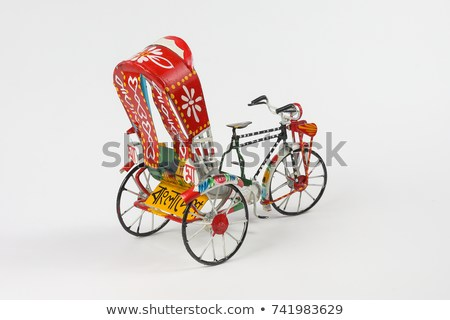Rickshaw: (99, 38, 340, 259)
